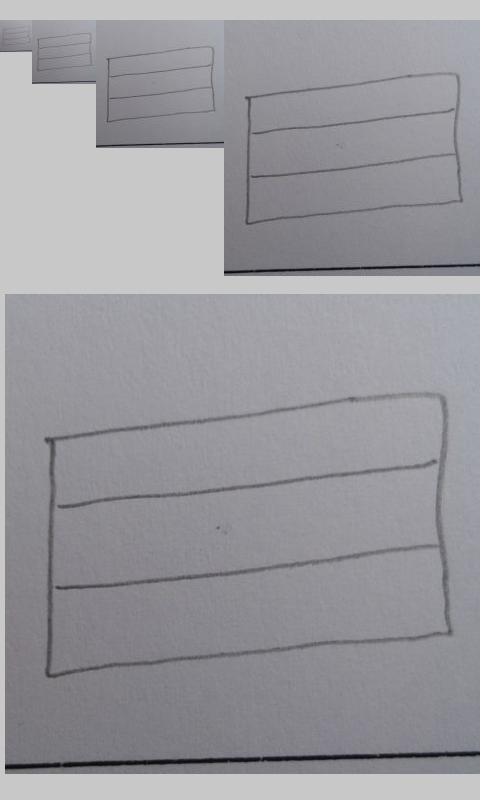list_view: (42, 386, 455, 681), (244, 70, 465, 228), (105, 45, 216, 125), (36, 32, 94, 72), (1, 24, 32, 47)
